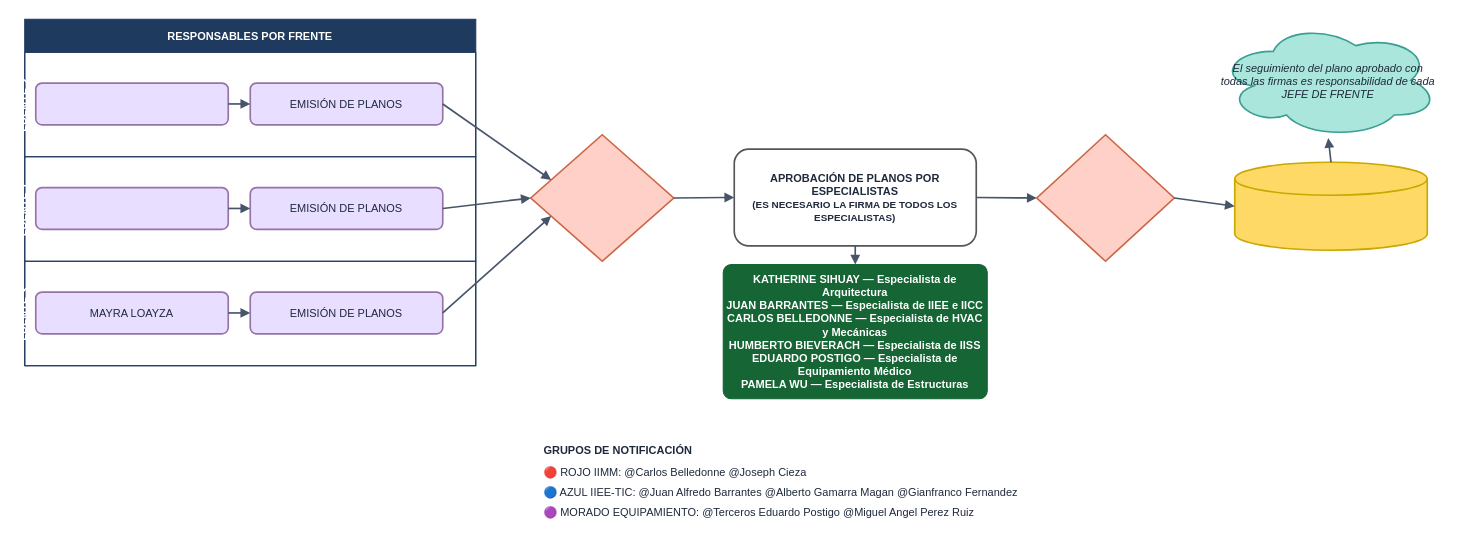
The diagram is 1458 pixels wide and 539 high, and some of its shapes have lost their labels. The shapes that lost their labels are listed below. From the top down, each one's centre as x and y in pixels, then its label:
At (x=131, y=103): "ALESSANDRA FERNANDEZ".
At (x=131, y=208): "LUIS BUSTAMANTE".
At (x=601, y=197): "ENVÍO POR CORREO LINK DE FIRMAS".
At (x=1105, y=197): "FIRMA FINAL DE JEFA DE OT".
At (x=1330, y=206): "PLANO LISTO PARA ENVÍO DE BLUEBEAM".
